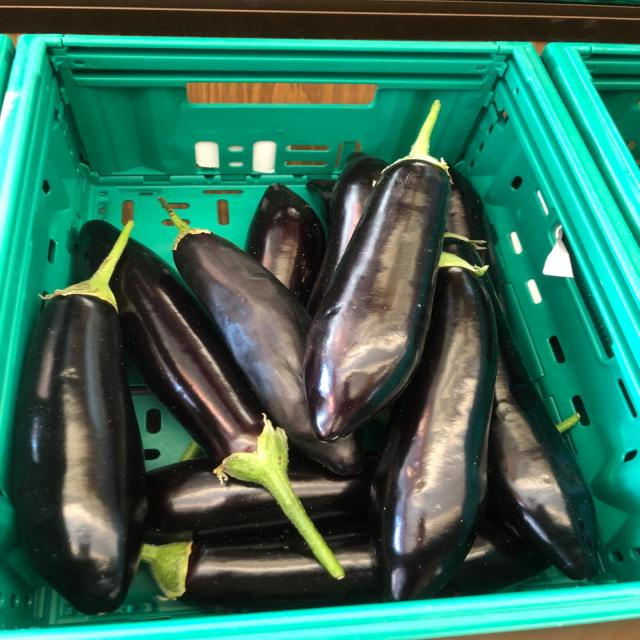eggplant: (69, 192, 360, 562), (9, 196, 159, 617), (295, 98, 456, 447)
